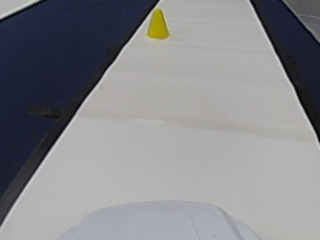cone: (146, 10, 169, 38)
